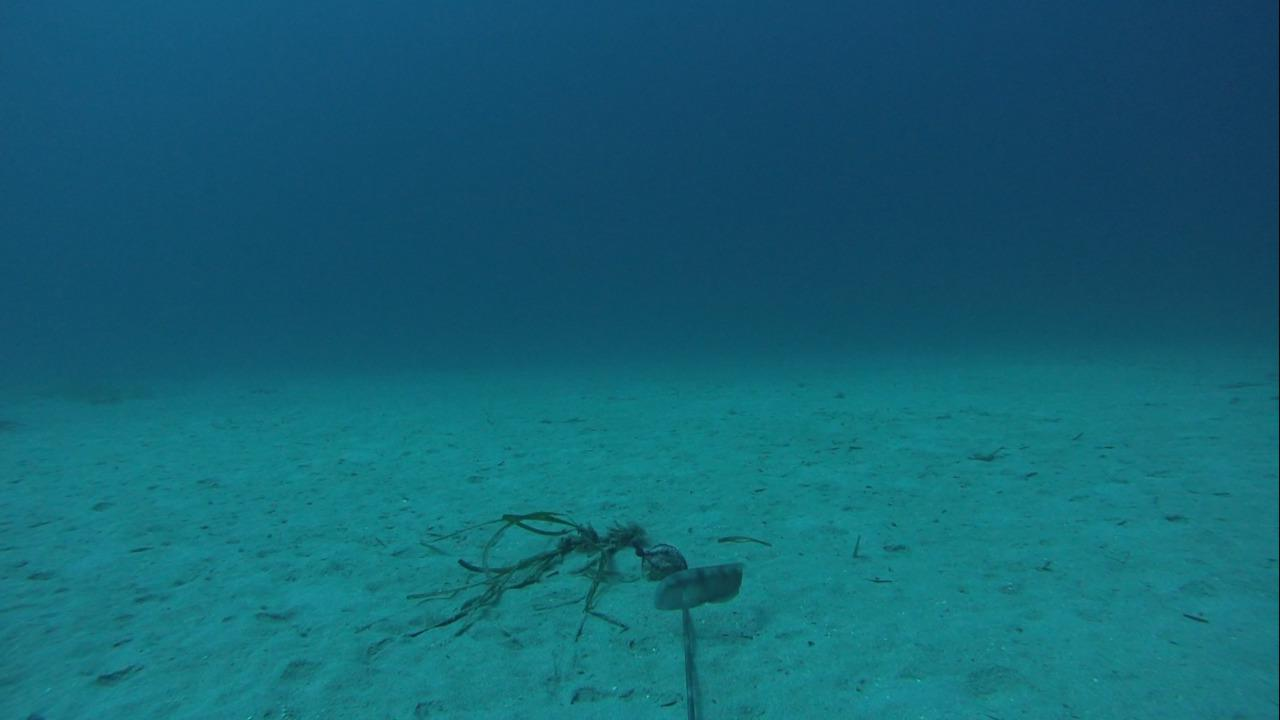raor: (650, 560, 750, 612)
